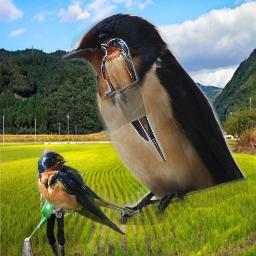Swallow: (62, 11, 248, 225), (36, 150, 147, 235), (101, 38, 166, 162)
